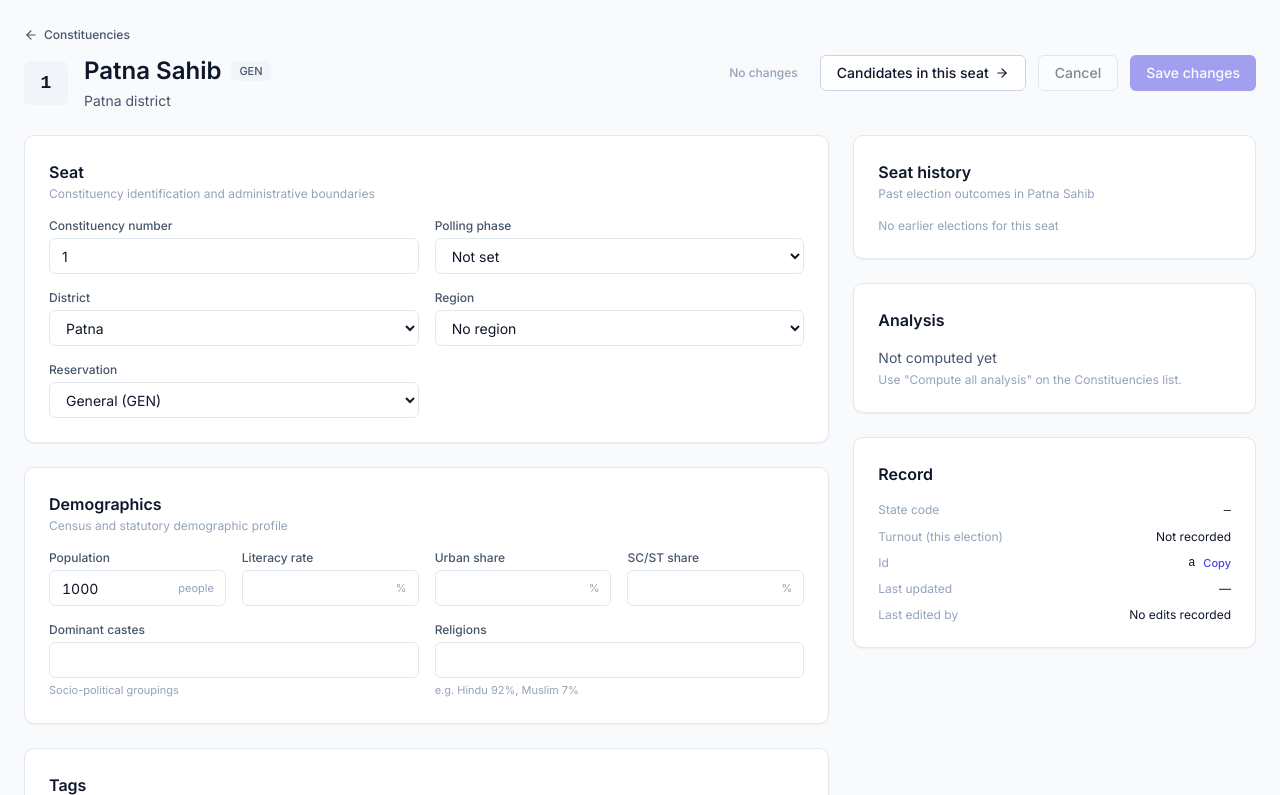
Test: Constituencies page › the record saves 0 as 0 and shows an invalid seat number inline without sending it
This screenshot has width=1280, height=795.
Expected: the heading "Patna Sahib" is shown, x1=84 y1=55 x2=221 y2=87
Type "0" into the field labelled "Urban share" at (523, 588), box x1=435 y1=570 x2=612 y2=606
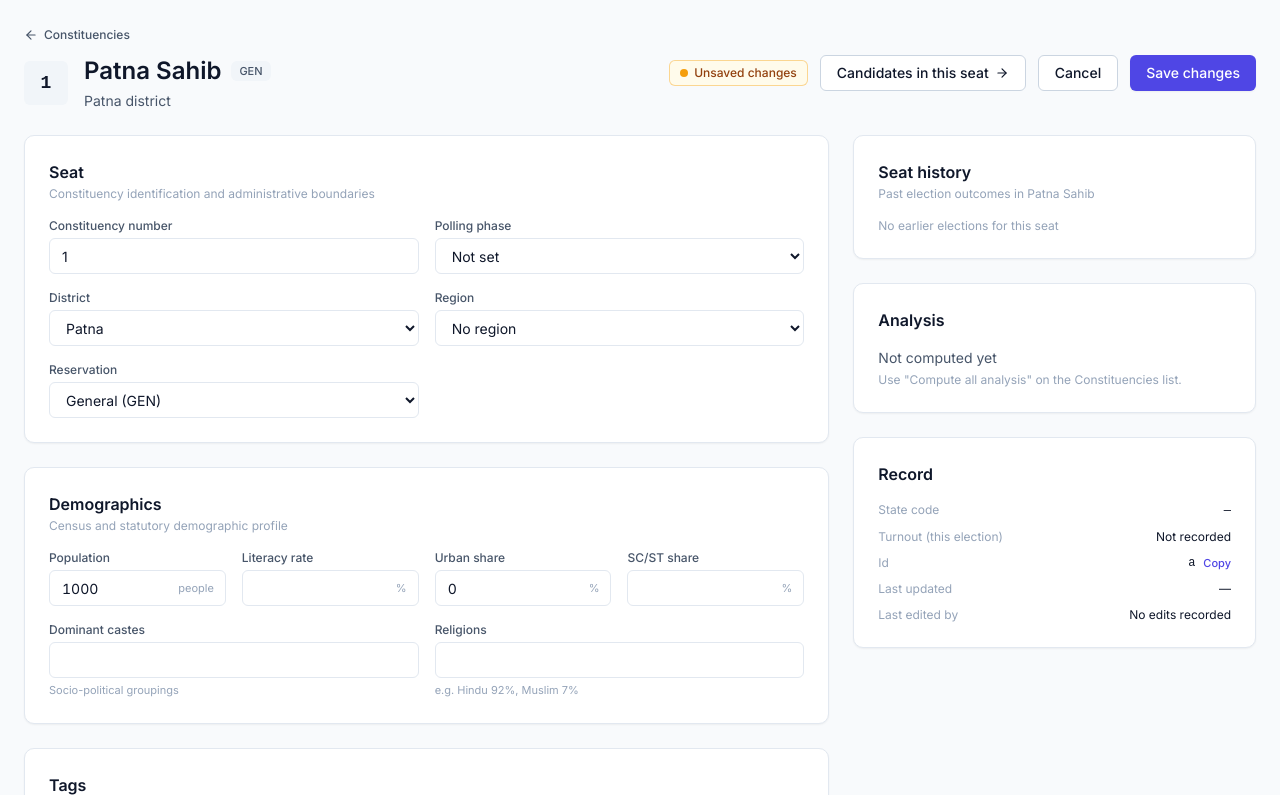
Click the button "Save changes" at (1193, 73), box x1=1130 y1=55 x2=1256 y2=91
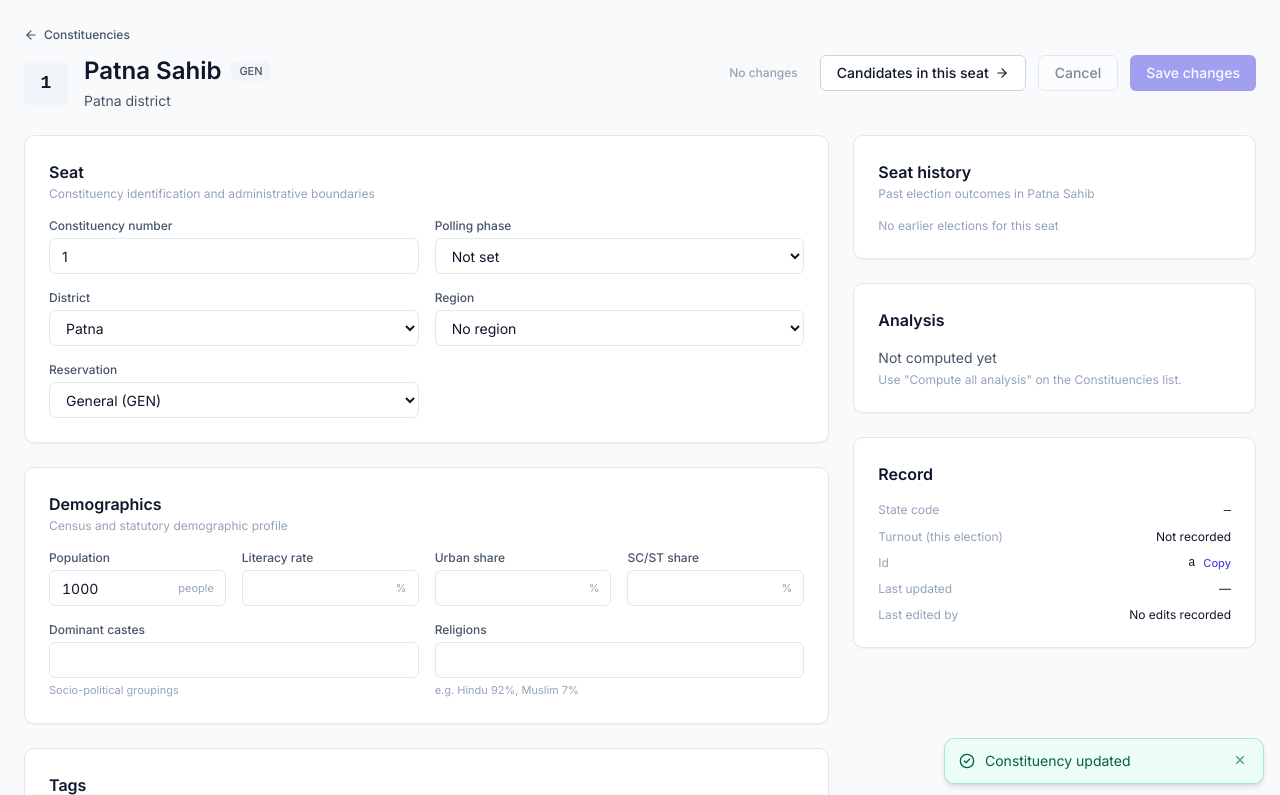
Now the text "No changes" is shown, box x1=729 y1=65 x2=798 y2=80
Replace the text in the field labelled "Constituency number" with "abc" at (234, 256), box x1=49 y1=238 x2=419 y2=274
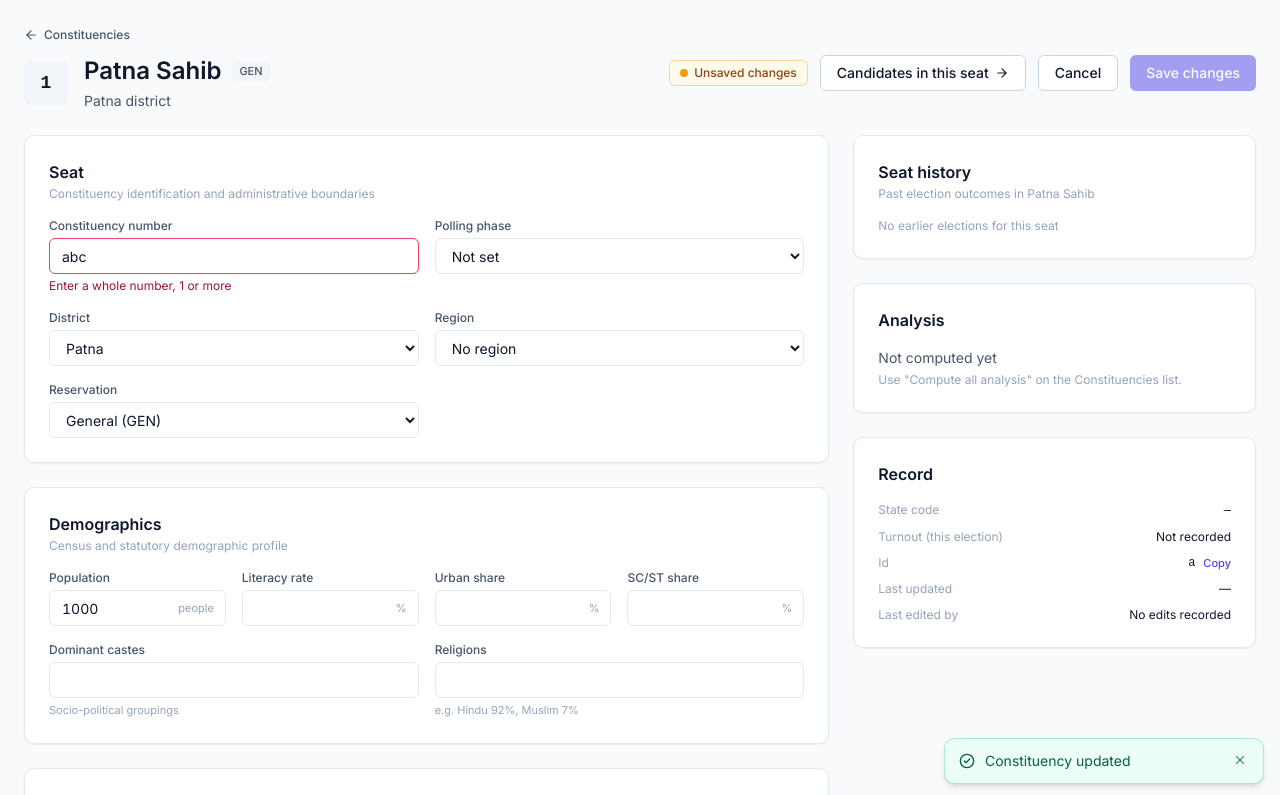
Now the button "Save changes" is disabled, box x1=1130 y1=55 x2=1256 y2=91
Now the text "Enter a whole number, 1 or more" is shown, box x1=49 y1=278 x2=232 y2=293
